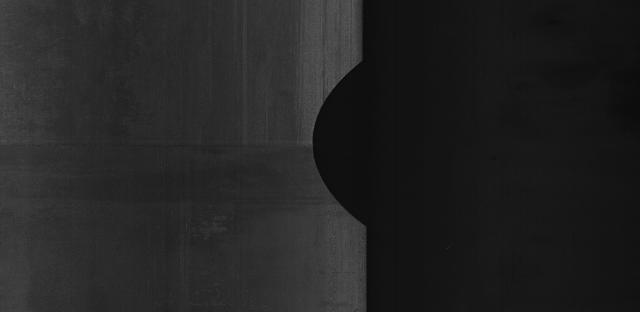welding_line: (0, 134, 326, 163)
